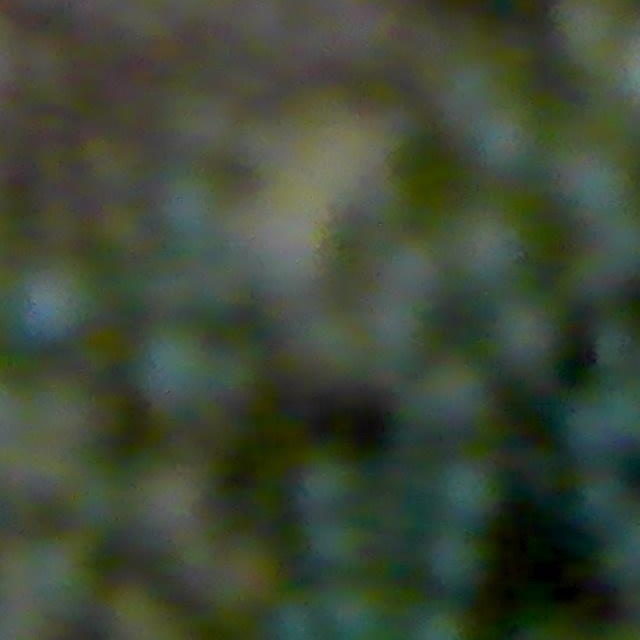SeaGrape: (3, 252, 100, 346), (447, 202, 532, 292), (132, 324, 219, 411), (408, 356, 491, 435), (469, 97, 546, 179), (485, 296, 562, 376), (570, 376, 640, 454), (293, 449, 364, 520), (430, 456, 501, 526), (423, 528, 486, 591), (401, 601, 477, 639)
